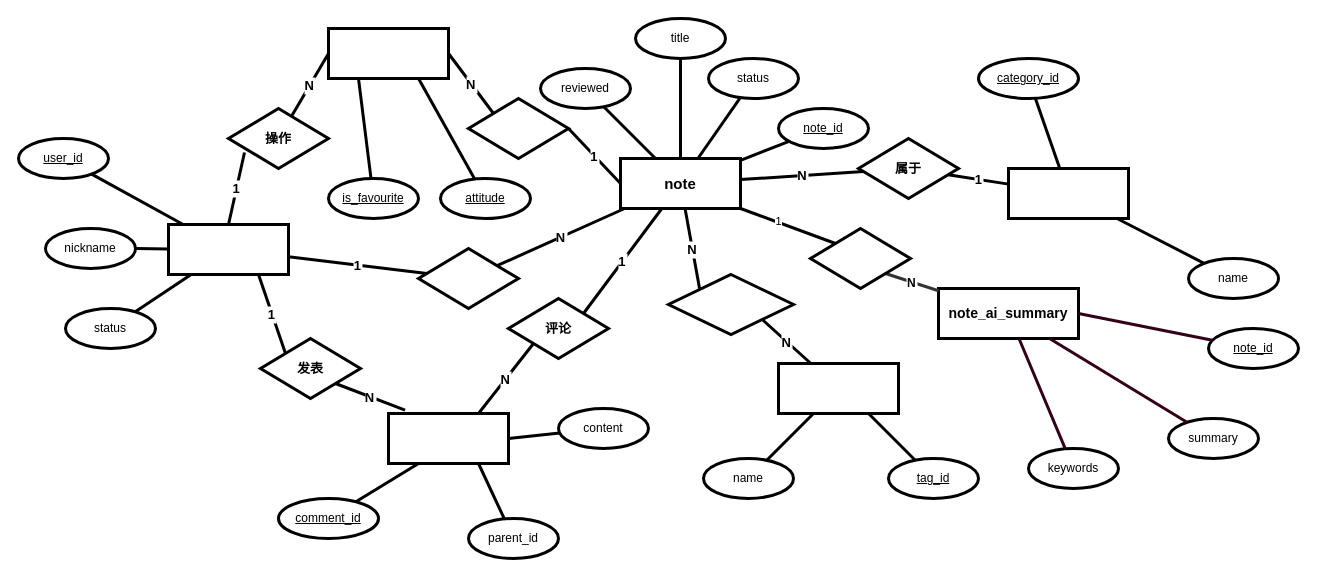
This 1317x577 diagram has some shape labels left out. Each missing label, with the centre of its shape:
note_comment: the point at 448,438
note_reaction: the point at 388,53
note_tag: the point at 838,388
note_tag_rel: the point at 730,304
sys_category: the point at 1068,193
sys_user: the point at 228,249
创建: the point at 468,278
生成: the point at 860,258
表现: the point at 518,128
